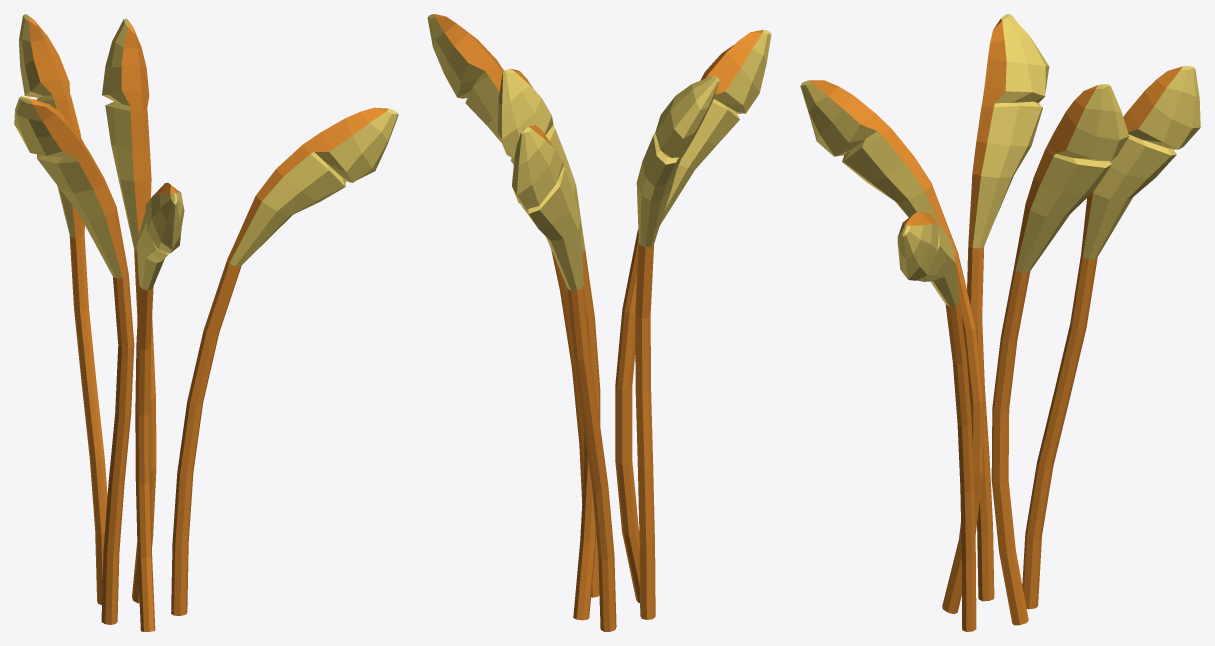
Rendered from Gras_02_Var_01.fbx.
The picture shows the model from 3 angles, left to right: view 1: azimuth 30°, elevation 25°; view 2: azimuth 150°, elevation 25°; view 3: azimuth 270°, elevation 25°; orthographic projection. The views are drawn at different scales.
Parts seen in each view (by area): view 1: Gras_02_Var_01; view 2: Gras_02_Var_01; view 3: Gras_02_Var_01.
Part boxes in pixels (x1,y1,x2,y2): Gras_02_Var_01: [14, 14, 398, 631]; Gras_02_Var_01: [427, 14, 771, 631]; Gras_02_Var_01: [800, 14, 1200, 631].
Bounding box in the file's own units: 0.2704 × 0.4134 × 0.2599.
